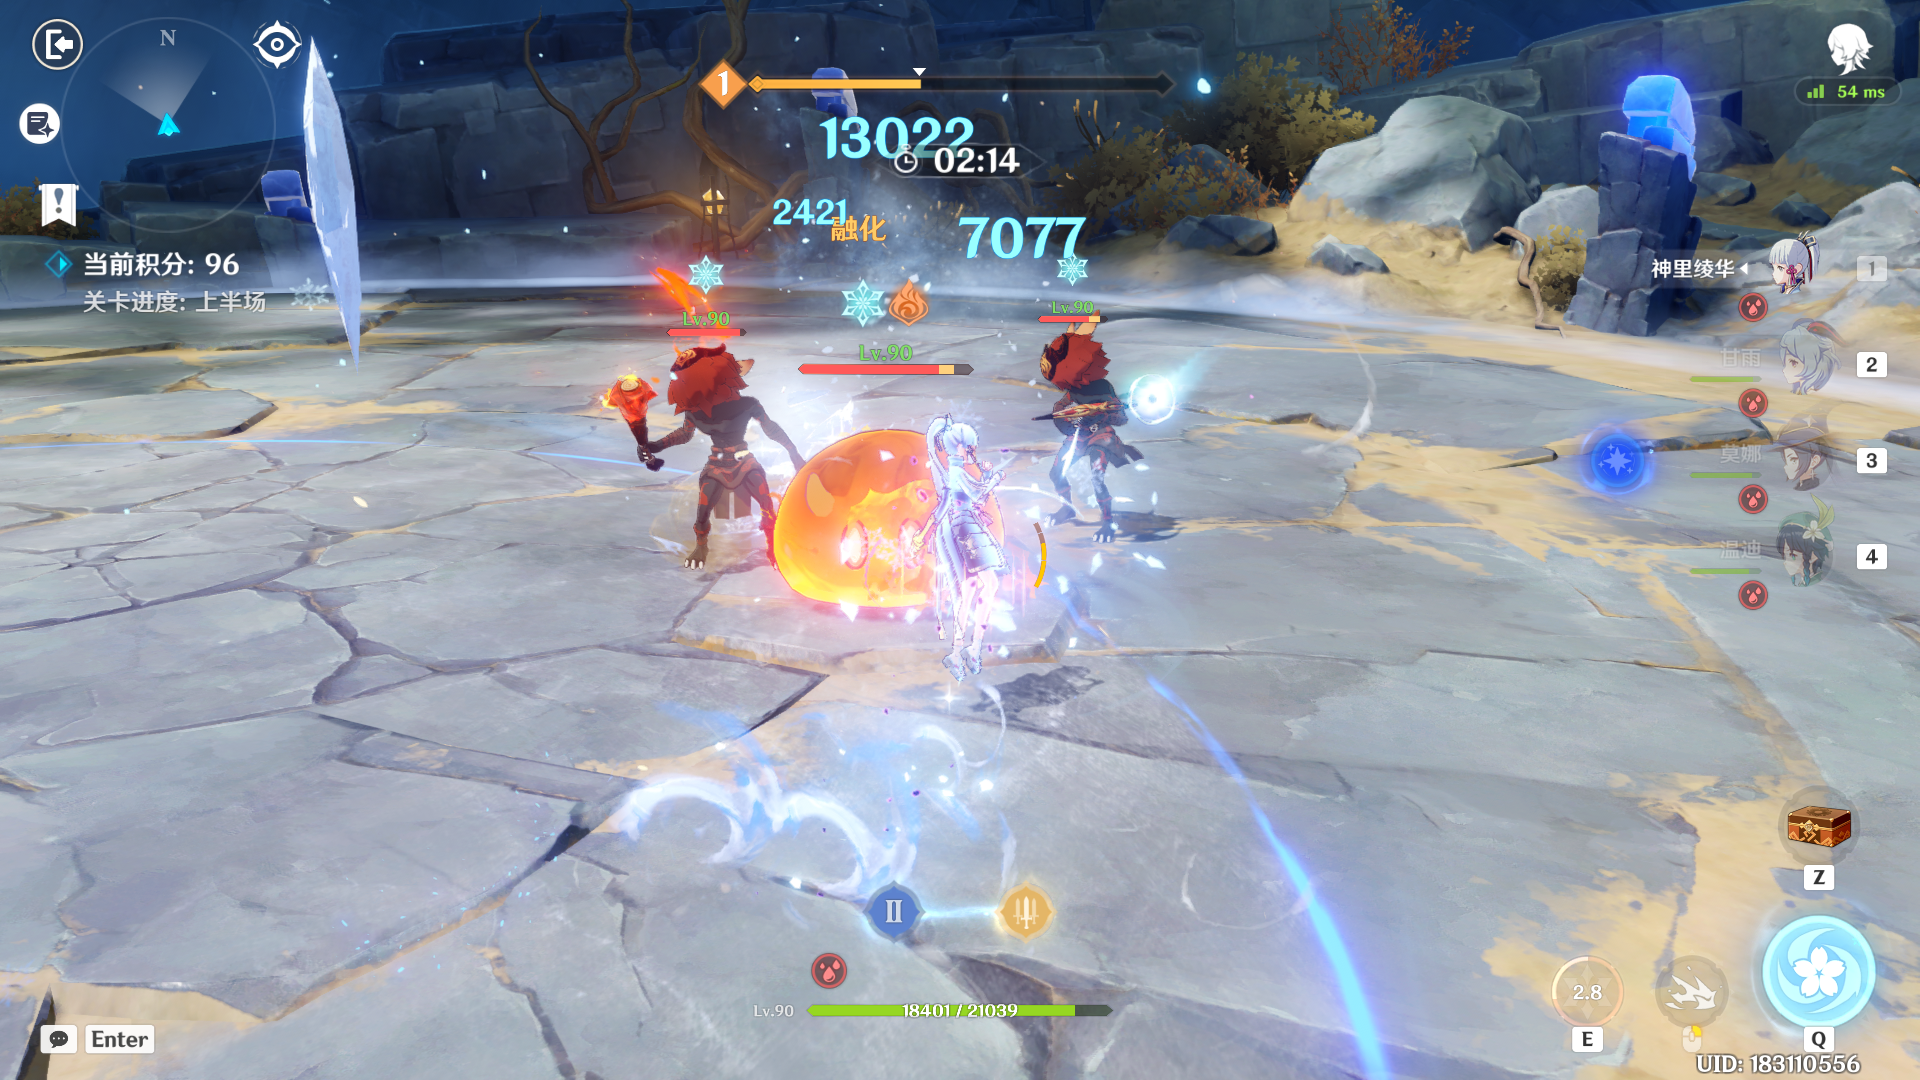character: (891, 419, 1051, 744)
hili: (595, 342, 802, 599), (993, 313, 1174, 584)
slime: (740, 400, 1019, 637)
